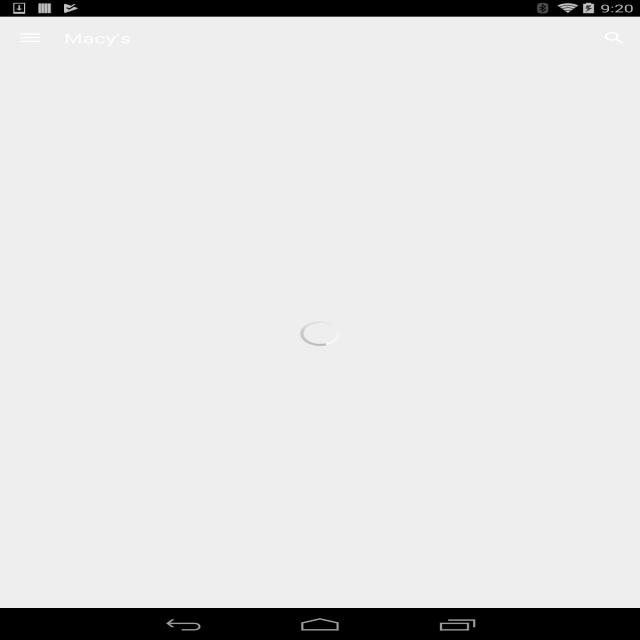button: (16, 27, 45, 47), (604, 28, 633, 48)
heading: (60, 29, 141, 49)
